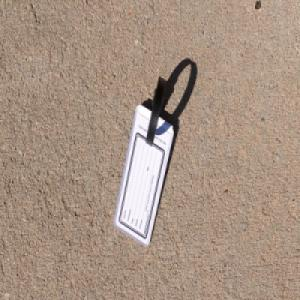LuggageTag: (112, 75, 175, 249)
